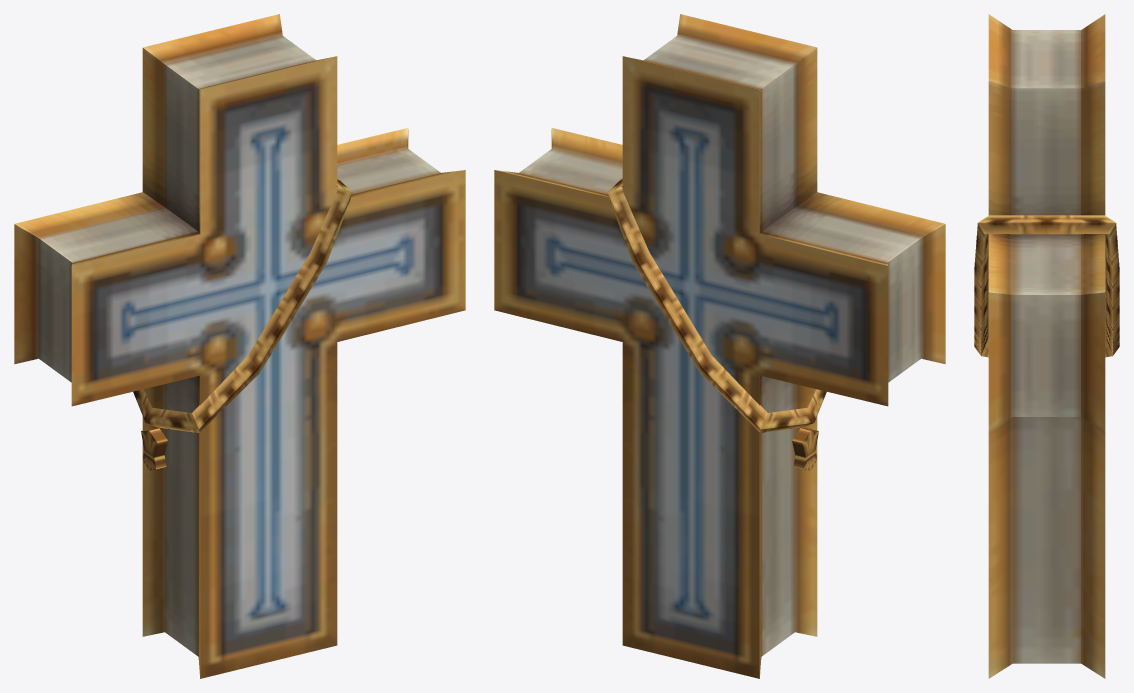
Rendered from Sheep_holyCodex.obj.
3 renders of one model, left to right at view 1: azimuth 30°, elevation 25°; view 2: azimuth 150°, elevation 25°; view 3: azimuth 270°, elevation 25°, orthographic.
Visible parts, largest first — view 1: Sheep_holyCodex_tri; view 2: Sheep_holyCodex_tri; view 3: Sheep_holyCodex_tri.
Part boxes in pixels (x1,y1,x2,y2): Sheep_holyCodex_tri: [14, 14, 465, 678]; Sheep_holyCodex_tri: [494, 14, 945, 678]; Sheep_holyCodex_tri: [974, 14, 1119, 678].
Size of the model in its own units: 0.2892 by 0.4134 by 0.0911.
Materials: 1 (1 with a texture image).
